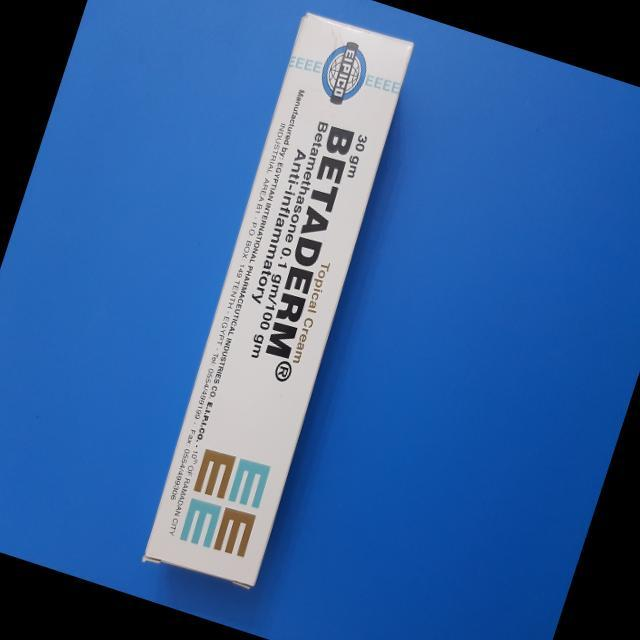Medicine Name: (254, 116, 361, 365)
